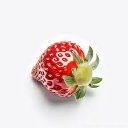strawberry: (30, 39, 101, 100)
